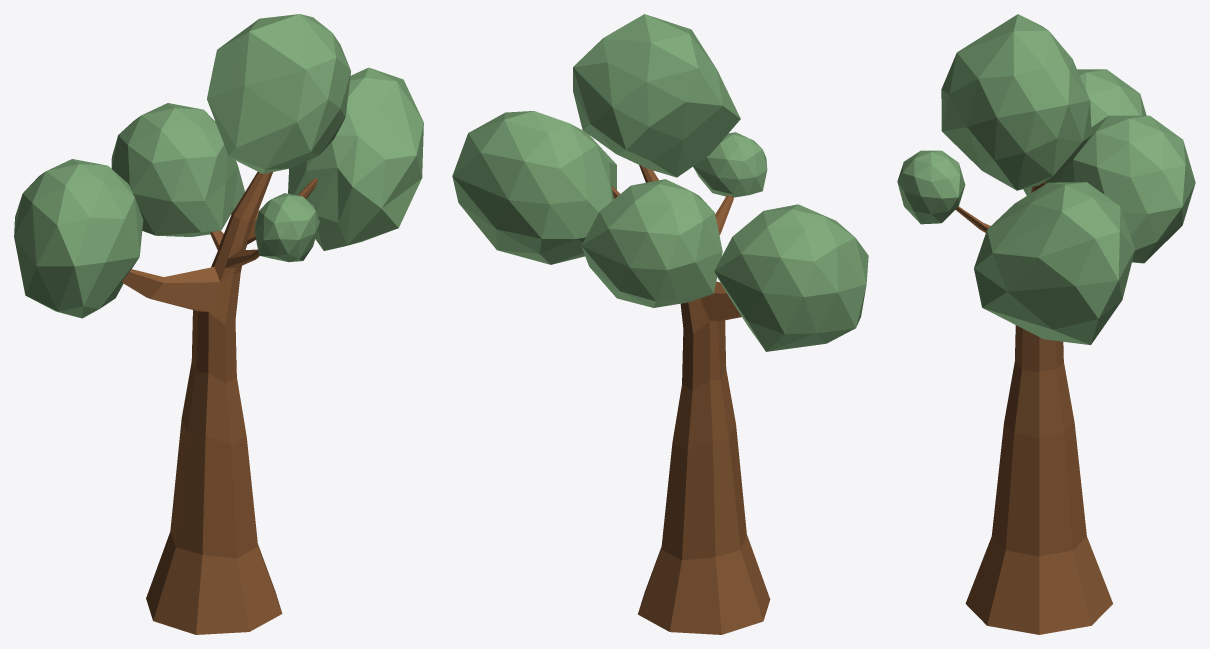
The model's file is f_long_oak_tree5.fbx.
3 views of the same model, side by side, from view 1: azimuth 30°, elevation 25°; view 2: azimuth 150°, elevation 25°; view 3: azimuth 270°, elevation 25° (orthographic). The views are drawn at different scales.
Parts seen in each view (by area): view 1: oak tree 5; view 2: oak tree 5; view 3: oak tree 5.
Part boxes in pixels (bbox=[...]): oak tree 5: bbox=[14, 14, 423, 634]; oak tree 5: bbox=[452, 14, 868, 634]; oak tree 5: bbox=[897, 14, 1195, 634].
Size of the model in its own units: 1055 by 1477 by 655.
